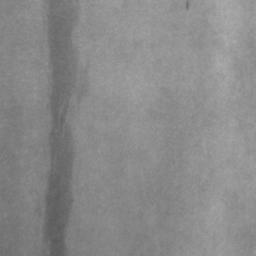Inclusion: (44, 0, 81, 256)
